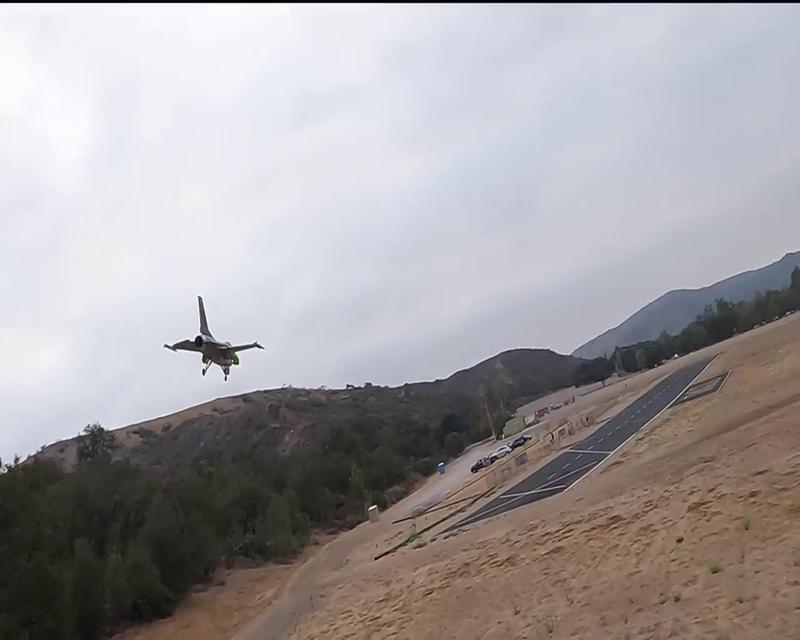UAV: (164, 294, 266, 382)
